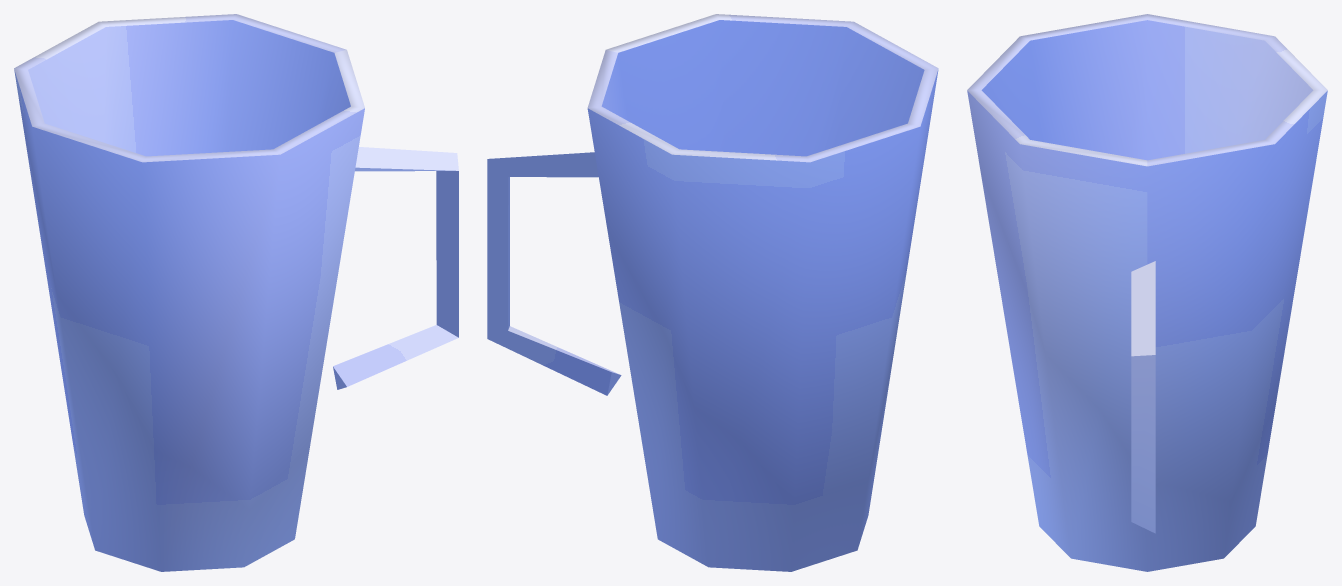
Rendered from prop.vessel.glb.
The picture shows the model from 3 angles, left to right: view 1: azimuth 30°, elevation 25°; view 2: azimuth 150°, elevation 25°; view 3: azimuth 270°, elevation 25°; orthographic projection.
Visible parts, largest first — view 1: kit_vessel, kit_vessel_detail; view 2: kit_vessel, kit_vessel_detail; view 3: kit_vessel, kit_vessel_detail.
Boxes of the visible parts, x1=… form: kit_vessel: x1=14, y1=14, x2=364, y2=571; kit_vessel_detail: x1=333, y1=147, x2=458, y2=389; kit_vessel: x1=587, y1=14, x2=938, y2=571; kit_vessel_detail: x1=487, y1=152, x2=621, y2=395; kit_vessel: x1=967, y1=14, x2=1327, y2=571; kit_vessel_detail: x1=1131, y1=261, x2=1155, y2=533.
Bounding box in the file's own units: 0.1227 × 0.12 × 0.09.
Materials: 1 (1 with a texture image).
